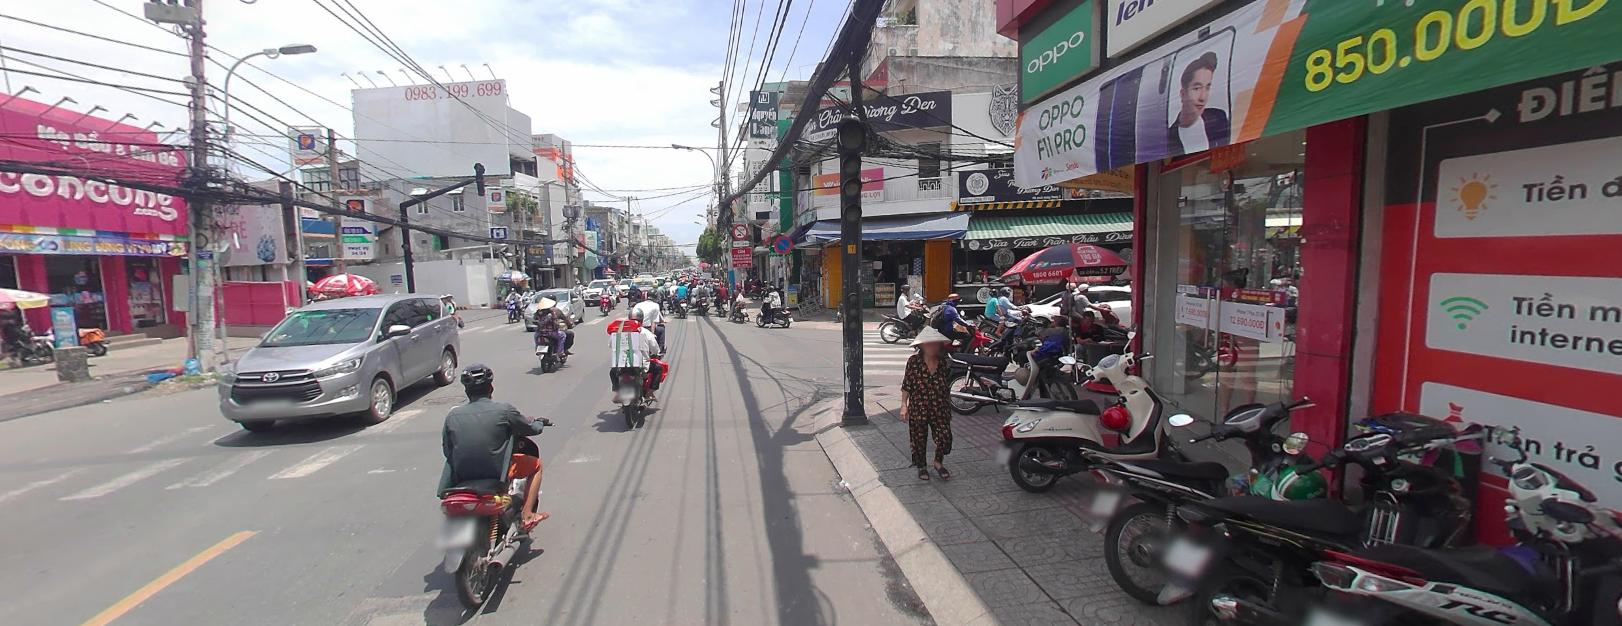Cam con lai: (731, 222, 747, 237)
Cam dung va do: (774, 233, 793, 252)
